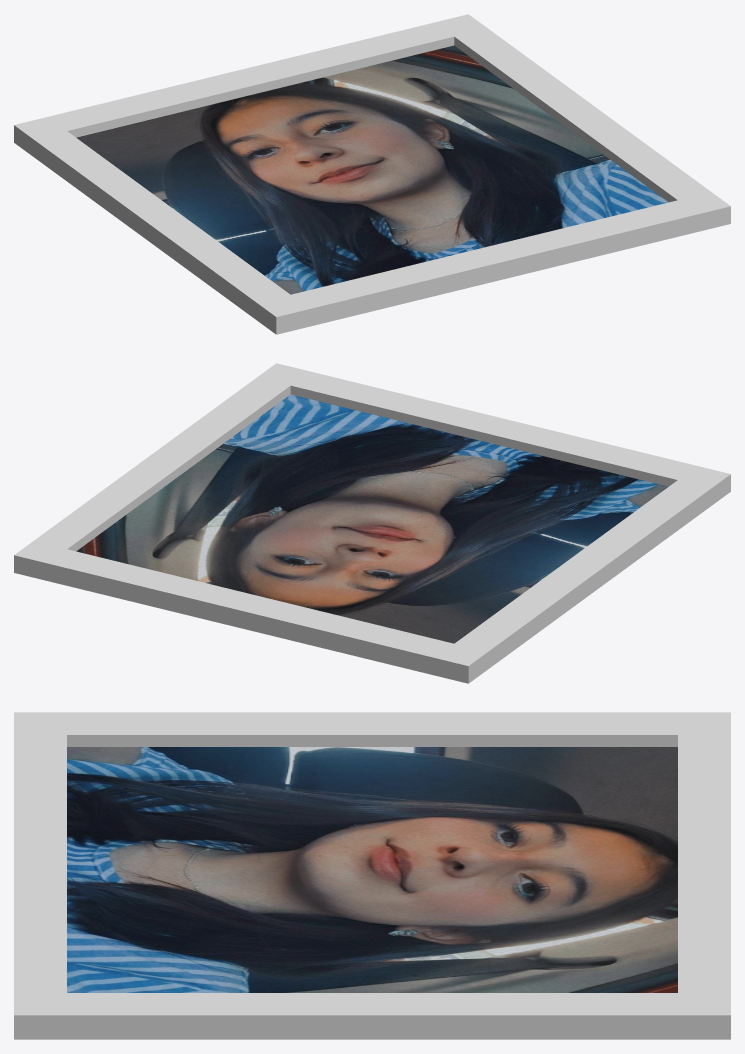
File: Aliciaa.fbx
The picture shows the model from 3 angles, top to bottom: view 1: azimuth 30°, elevation 25°; view 2: azimuth 150°, elevation 25°; view 3: azimuth 270°, elevation 25°; orthographic projection. The views are drawn at different scales.
Visible parts, largest first — view 1: Alix, Cube; view 2: Alix, Cube; view 3: Alix, Cube.
Part boxes in pixels (bbox=[...]): Alix: bbox=[76, 45, 668, 294]; Cube: bbox=[14, 14, 730, 334]; Alix: bbox=[76, 394, 668, 643]; Cube: bbox=[14, 363, 730, 683]; Alix: bbox=[67, 747, 677, 992]; Cube: bbox=[14, 712, 730, 1039].
Size of the model in its own units: 108 by 4 by 108.
